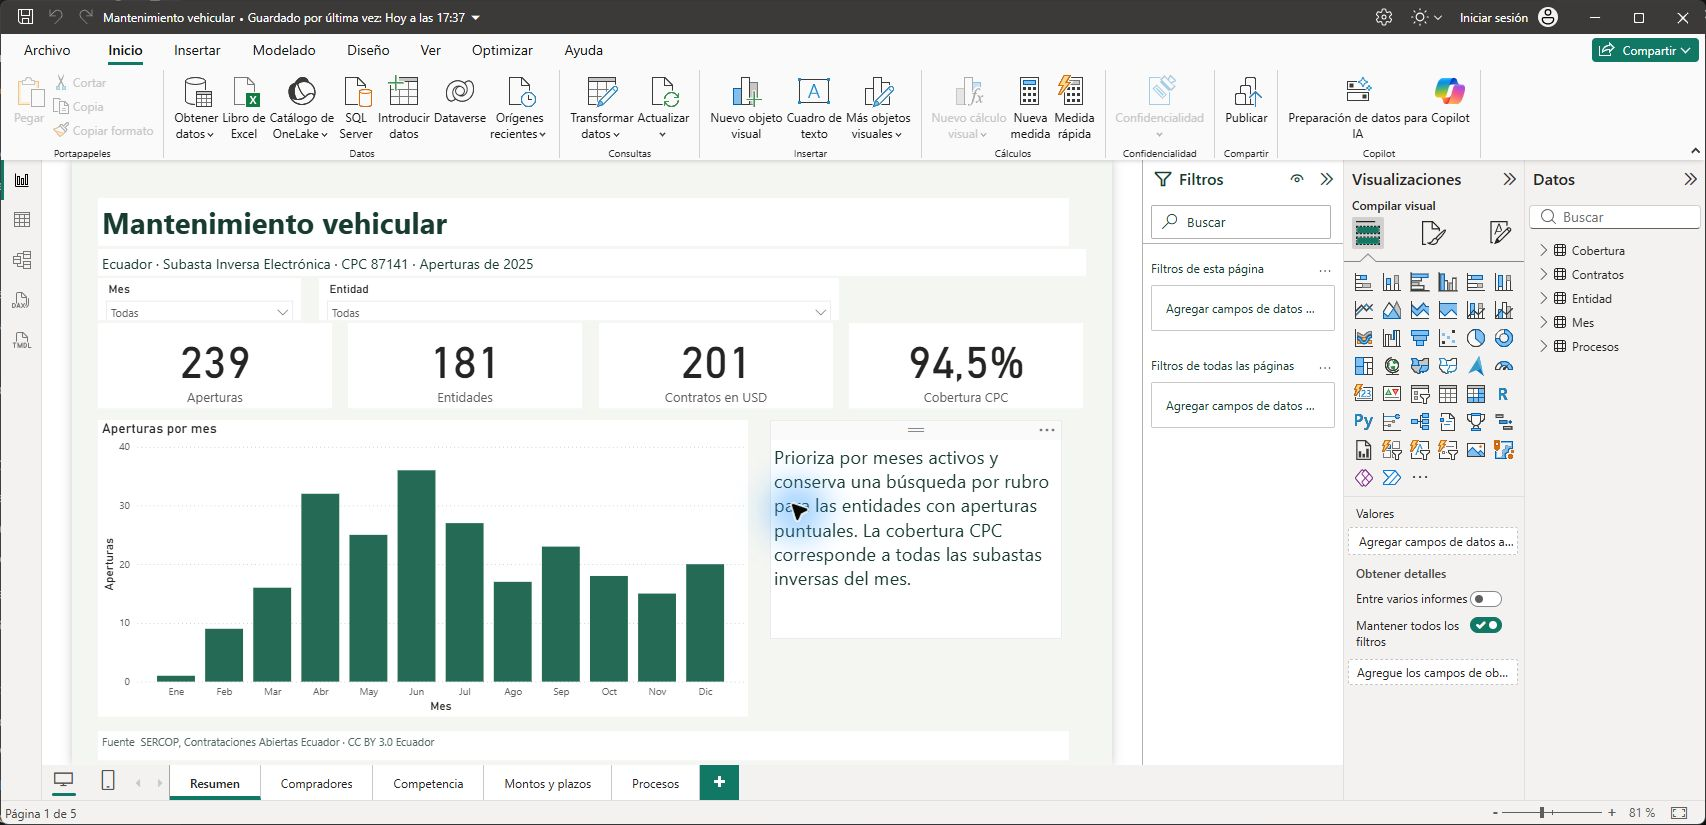

This screenshot's page, from the dashboard's own definition file:
{"tool":"powerbi","page":{"name":"Resumen","canvas":[1280,720],"ordinal":0},"visuals":[{"type":"textbox","box":[32,22,1195,59],"z":100},{"type":"textbox","box":[32,85,1216,33],"z":200},{"type":"slicer","fields":{"Values":["Mes.Mes"]},"box":[32,121,250,52],"z":300},{"type":"slicer","fields":{"Values":["Entidad.Entidad"]},"box":[304,121,640,52],"z":400},{"type":"textbox","box":[32,678,1195,36],"z":500},{"type":"card","fields":{"Values":["Procesos.Aperturas"]},"box":[32,176,288,105],"z":600},{"type":"card","fields":{"Values":["Procesos.Entidades"]},"box":[340,176,288,105],"z":700},{"type":"card","fields":{"Values":["Procesos.Contratos en USD"]},"box":[648,176,288,105],"z":800},{"type":"card","fields":{"Values":["Procesos.Cobertura CPC"]},"box":[956,176,288,105],"z":900},{"type":"columnChart","title":"Aperturas por mes","fields":{"Category":["Mes.Mes"],"Y":["Procesos.Aperturas"]},"box":[32,295,800,365],"z":1000},{"type":"textbox","box":[859,320,360,245],"z":1100}]}

Visuals, with their boxes on the page's 1280x720 design canvas (x1, y1, x2, y2). These are canvas units, not pixel positions in the 1706x825 screenshot, which may show the page scaled, cropped or inside an application window:
textbox: [left=32, top=22, right=1227, bottom=81]
textbox: [left=32, top=85, right=1248, bottom=118]
slicer - Mes.Mes: [left=32, top=121, right=282, bottom=173]
slicer - Entidad.Entidad: [left=304, top=121, right=944, bottom=173]
textbox: [left=32, top=678, right=1227, bottom=714]
card - Procesos.Aperturas: [left=32, top=176, right=320, bottom=281]
card - Procesos.Entidades: [left=340, top=176, right=628, bottom=281]
card - Procesos.Contratos en USD: [left=648, top=176, right=936, bottom=281]
card - Procesos.Cobertura CPC: [left=956, top=176, right=1244, bottom=281]
"Aperturas por mes" columnChart: [left=32, top=295, right=832, bottom=660]
textbox: [left=859, top=320, right=1219, bottom=565]
